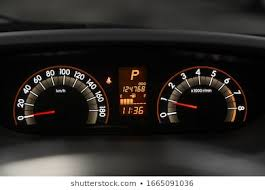Digital_Meter: (119, 79, 150, 98)
